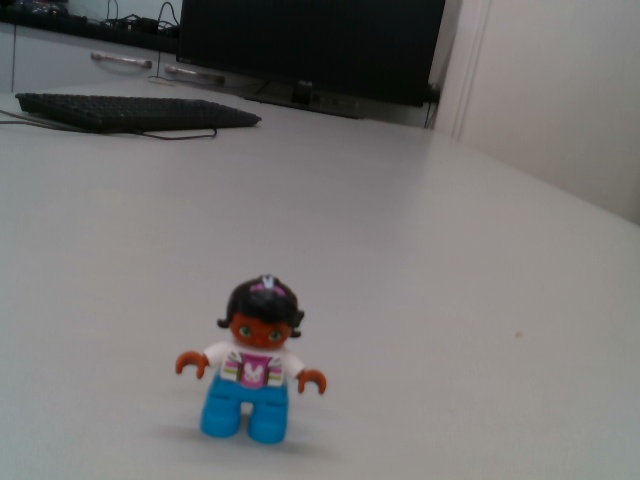people: (172, 272, 333, 448)
